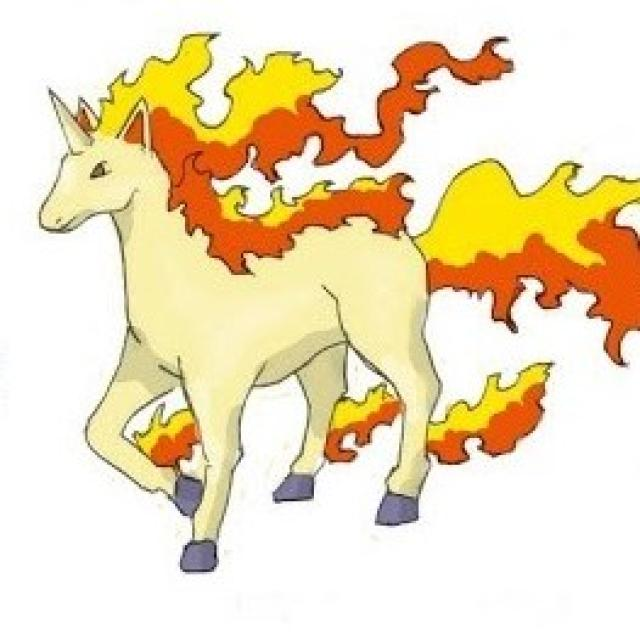Rapidash: (36, 38, 469, 534)
